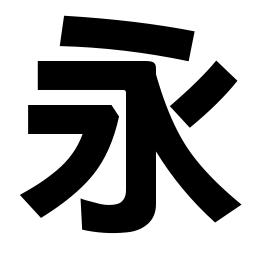D: (58, 12, 196, 53)
HSZ: (120, 57, 160, 97)
Hs: (33, 58, 82, 93)
Ne: (201, 185, 245, 225)
PNc: (156, 102, 198, 140)
PZe: (16, 182, 52, 220)
Ps: (202, 59, 239, 93)
SG: (76, 193, 161, 235)
Sm: (123, 150, 156, 179)
TPZ: (75, 101, 120, 155)
Ts: (24, 101, 51, 138)
